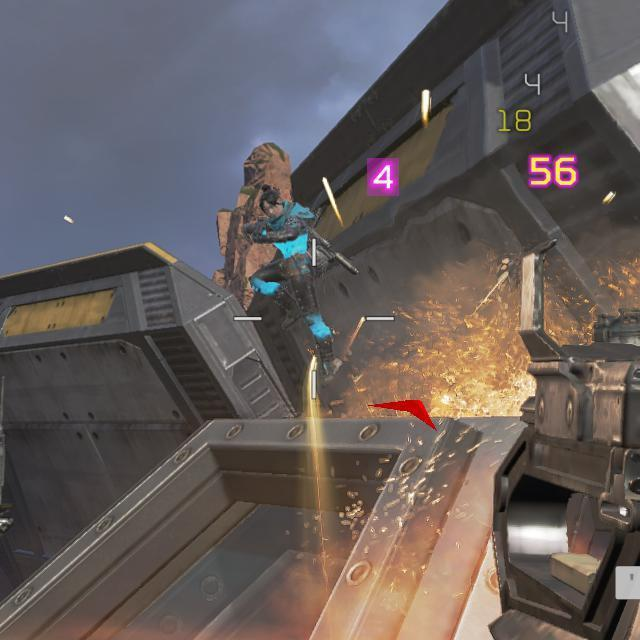avatar: (239, 183, 335, 383)
